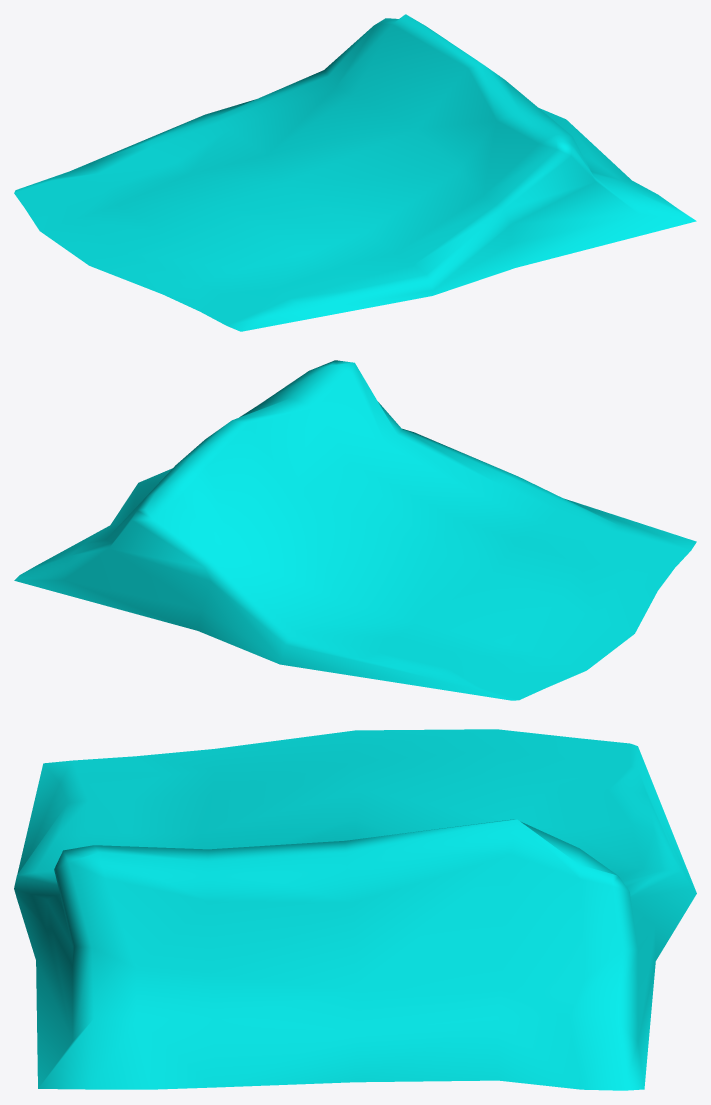
Rendered from Ramp03_mesh.fbx.
3 views of the same model, one above another, from view 1: azimuth 30°, elevation 25°; view 2: azimuth 150°, elevation 25°; view 3: azimuth 270°, elevation 25° (orthographic). The views are drawn at different scales.
Visible parts, largest first — view 1: Ramp03_mesh; view 2: Ramp03_mesh; view 3: Ramp03_mesh.
Boxes of the visible parts, x1,y1,x2,y2 form: Ramp03_mesh: (14,14,696,331); Ramp03_mesh: (14,360,696,700); Ramp03_mesh: (14,729,696,1090).
Size of the model in its own units: 6.07 by 1.42 by 4.83.
